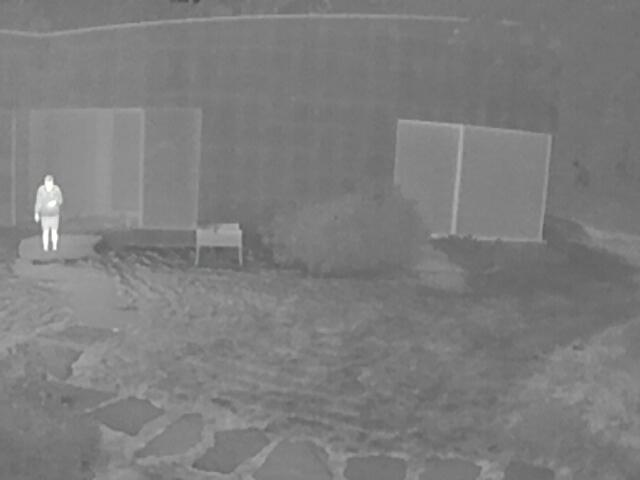person: (32, 175, 62, 254)
